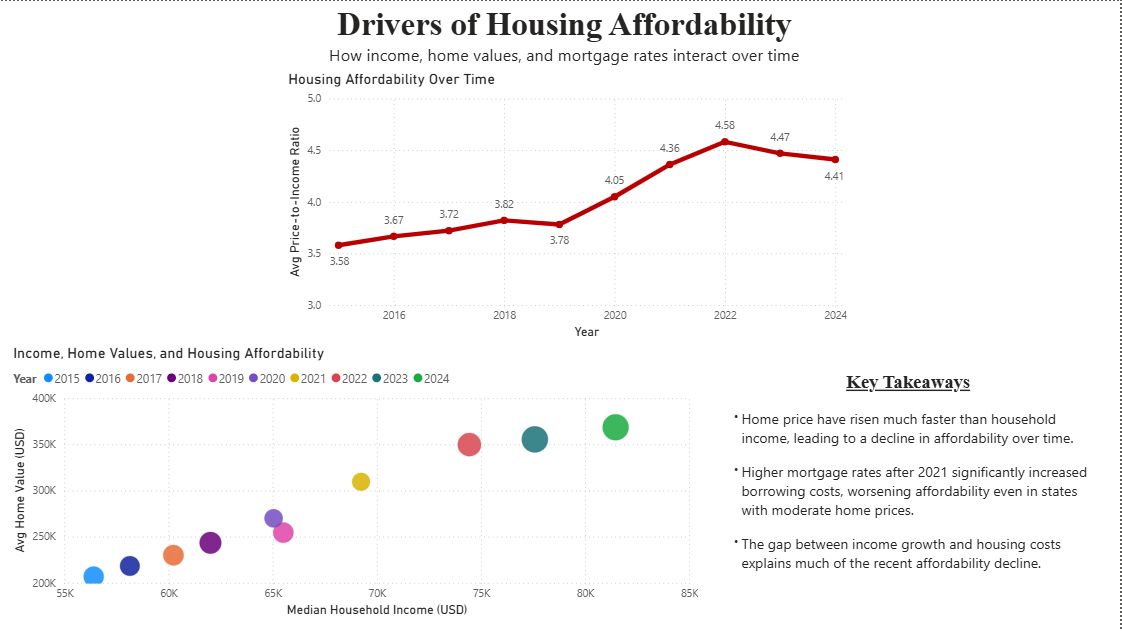

This screenshot's page, from the dashboard's own definition file:
{"tool":"powerbi","page":{"name":"Drivers","canvas":[1280,720],"ordinal":2},"visuals":[{"type":"textbox","box":[10,0,1270,78.6],"z":0},{"type":"lineChart","title":"Housing Affordability Over Time","fields":{"Y":["Avg(housing_analysis affordability.price_to_income)"],"Category":["housing_analysis affordability.year"]},"box":[324.3,78.6,648.6,312.9],"z":1000},{"type":"scatterChart","title":"Income, Home Values, and Housing Affordability","fields":{"X":["Avg(housing_analysis affordability.median_income)"],"Y":["Avg(housing_analysis affordability.avg_home_price)"],"Size":["Avg(housing_analysis affordability.mortgage_rate)"],"Series":["housing_analysis affordability.year"]},"box":[10,391.4,792.9,317.1],"z":2000},{"type":"textbox","box":[824.3,418.6,427.1,262.9],"z":3000}]}

Visuals, with their boxes in screenshot pixels (x1, y1, x2, y2), scaled from the page's 1280x720 canvas onto the 1122x631 screenshot:
textbox: (9, 0, 1121, 69)
"Housing Affordability Over Time" lineChart: (284, 69, 853, 343)
"Income, Home Values, and Housing Affordability" scatterChart: (9, 343, 704, 621)
textbox: (723, 367, 1097, 597)
